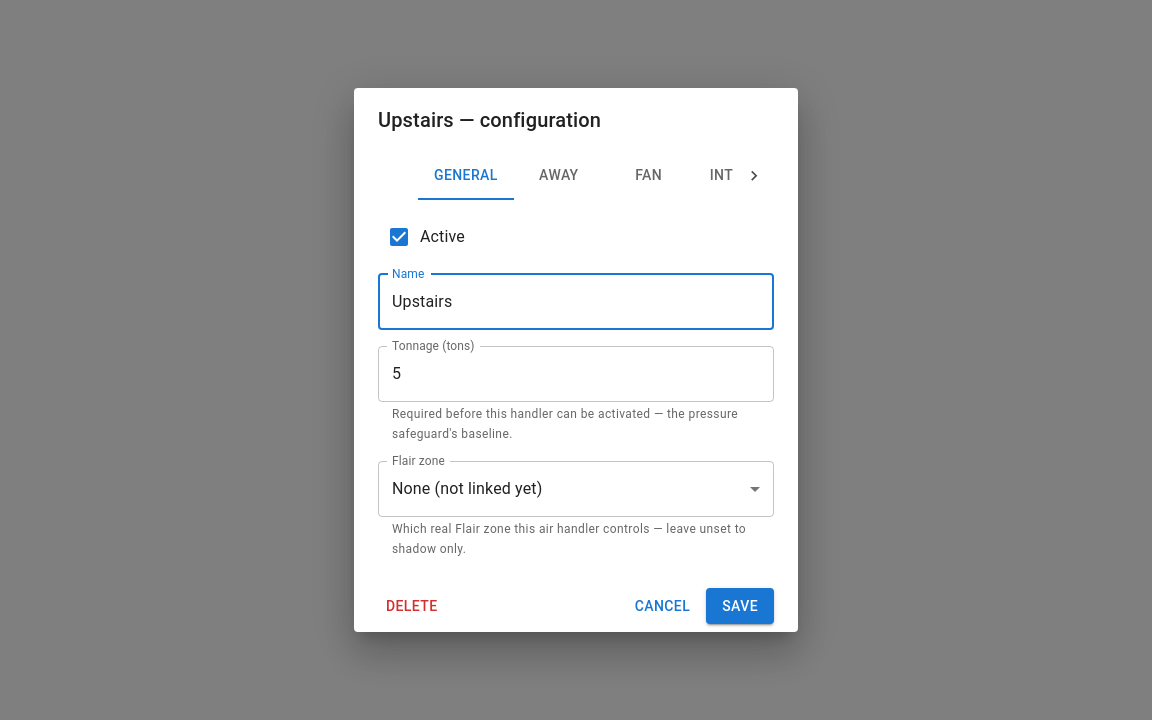
Test: EditAirHandlerDialog › leaves the away-override fields blank when unset
Click the tab "Away" at point(559, 176), box [514,152,604,200]
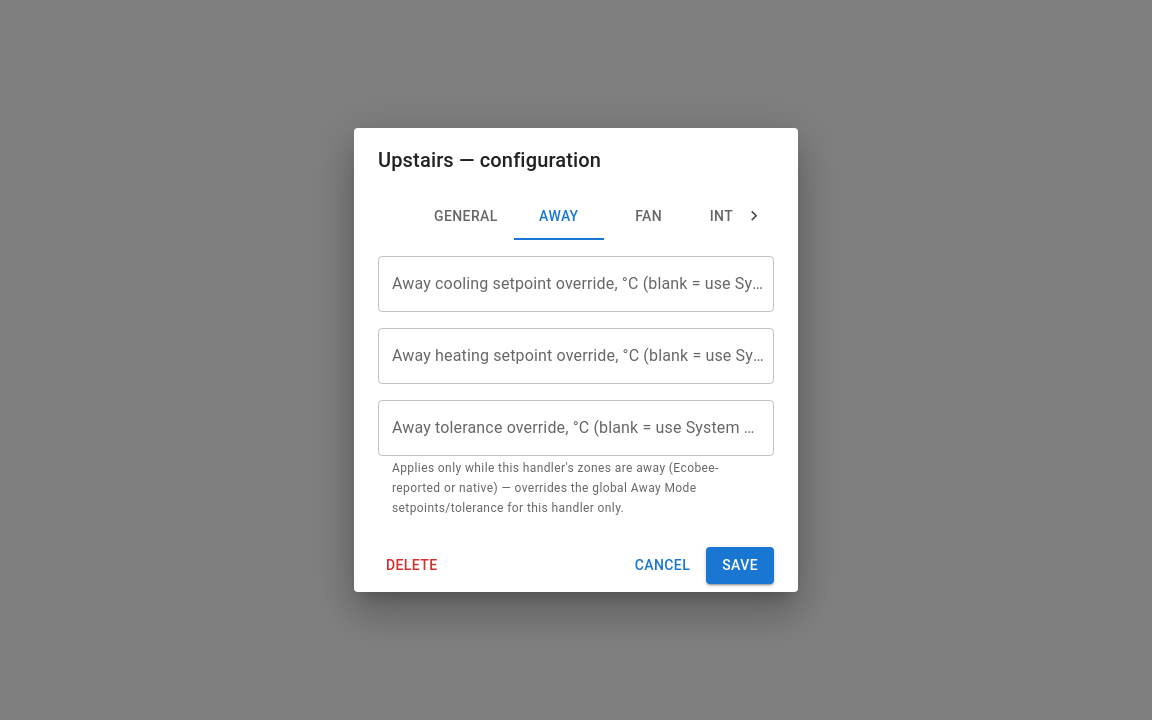
expect the number field labelled "Away cooling setpoint override" is not empty: met, box [378,256,774,312]
expect the number field labelled "Away heating setpoint override" is not empty: met, box [378,328,774,384]
expect the number field labelled "Away tolerance override, °C (blank = use System Parameters)" is not empty: met, box [378,400,774,456]
